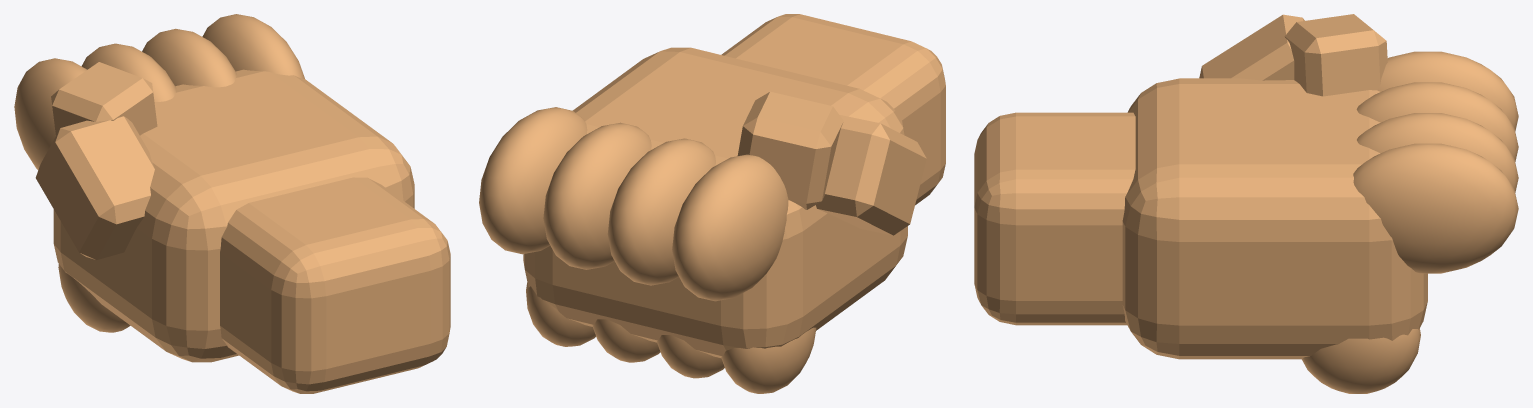
File: FP_Hand_Left.fbx
3 renders of one model, left to right at view 1: azimuth 30°, elevation 25°; view 2: azimuth 150°, elevation 25°; view 3: azimuth 270°, elevation 25°, orthographic. The views are drawn at different scales.
Visible parts, largest first — view 1: Palm, Wrist, Thumb, ThumbTip, Knuckle, Knuckle.003, Knuckle.002, Knuckle.001, FoldedFinger; view 2: Palm, Wrist, Knuckle, Knuckle.001, Knuckle.002, Knuckle.003, Thumb, ThumbTip, FoldedFinger, FoldedFinger.003, FoldedFinger.002, FoldedFinger.001; view 3: Palm, Wrist, Knuckle.003, ThumbTip, FoldedFinger.003, Knuckle.002, Knuckle.001, Knuckle, Thumb.
Boxes of the visible parts, x1,y1,x2,y2 form: Palm: (53,69,414,362); Wrist: (220,177,450,393); Thumb: (35,116,154,259); ThumbTip: (51,62,157,135); Knuckle: (14,58,86,169); Knuckle.003: (202,14,304,78); Knuckle.002: (142,28,236,87); Knuckle.001: (81,43,176,101); FoldedFinger: (58,264,130,332); Palm: (523,47,907,357); Wrist: (721,14,945,205); Knuckle: (672,154,788,301); Knuckle.001: (607,138,715,285); Knuckle.002: (543,122,651,269); Knuckle.003: (479,107,587,254); Thumb: (816,115,926,235); ThumbTip: (737,91,843,209); FoldedFinger: (721,327,816,393); FoldedFinger.003: (526,282,595,346); FoldedFinger.002: (592,319,660,362); FoldedFinger.001: (657,335,724,378); Palm: (1122,78,1427,359); Wrist: (974,112,1135,325); Knuckle.003: (1353,143,1518,273); ThumbTip: (1284,14,1387,96); FoldedFinger.003: (1302,328,1420,393); Knuckle.002: (1357,113,1518,192); Knuckle.001: (1356,82,1518,161); Knuckle: (1377,51,1518,130); Thumb: (1199,14,1304,80).
Size of the model in its own units: 25.92 by 21.42 by 39.
